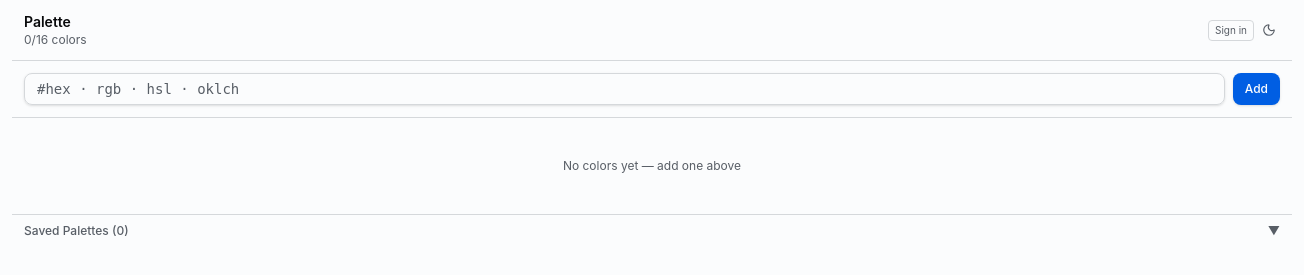
Sidebar › rejects invalid hex
The width and height of the screenshot is (1304, 275).
Type "notahex" into the field with placeholder "#hex · rgb · hsl · oklch" at (624, 89), box [24,73,1225,105]
Then press Enter
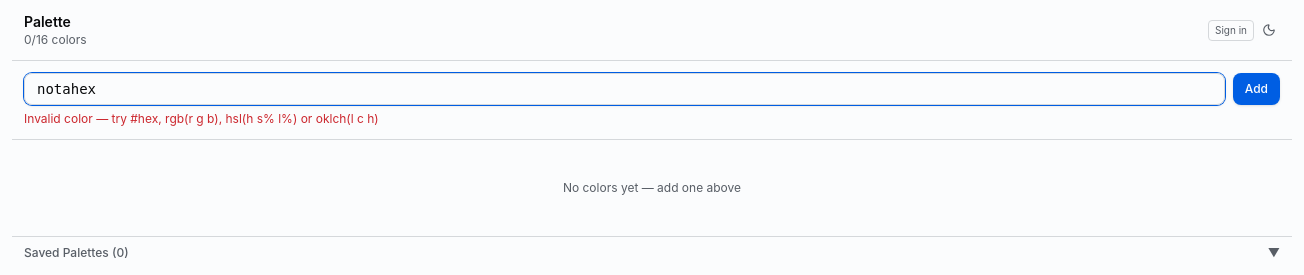
Expected: the message "Invalid color — try #hex, rgb(r g b), hsl(h s% l%) or oklch(l c h)" is shown, [24,111,379,126]
